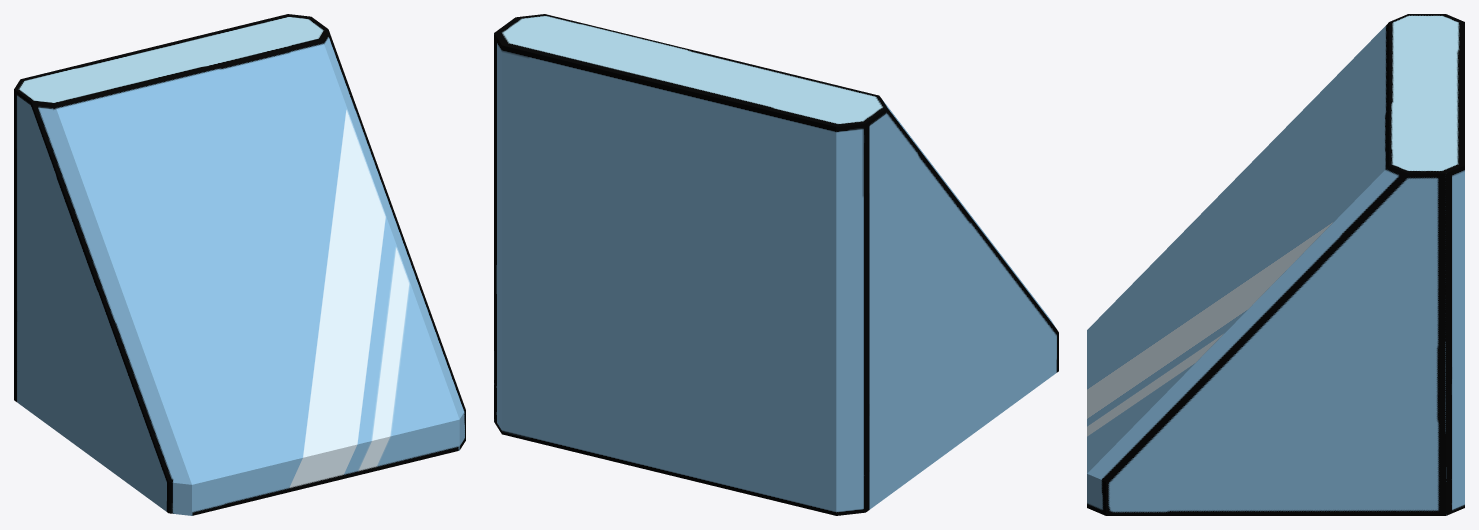
The model's file is BlockSlope.FBX.
3 views of the same model, side by side, from view 1: azimuth 30°, elevation 25°; view 2: azimuth 150°, elevation 25°; view 3: azimuth 270°, elevation 25° (orthographic). The views are drawn at different scales.
Parts seen in each view (by area): view 1: Box001; view 2: Box001; view 3: Box001.
Part boxes in pixels (box(x1,y1,x2,y2)): Box001: box(14, 14, 465, 515); Box001: box(494, 14, 1058, 515); Box001: box(1087, 14, 1464, 515).
Bounding box in the file's own units: 100 × 100 × 100.
Materials: 1 (1 with a texture image).
